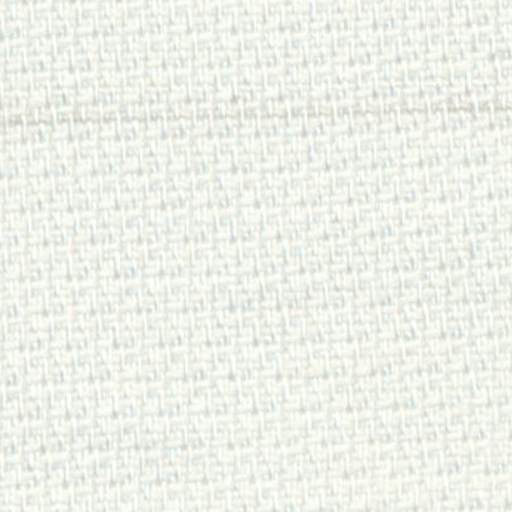WuZi: (20, 98, 484, 127)
